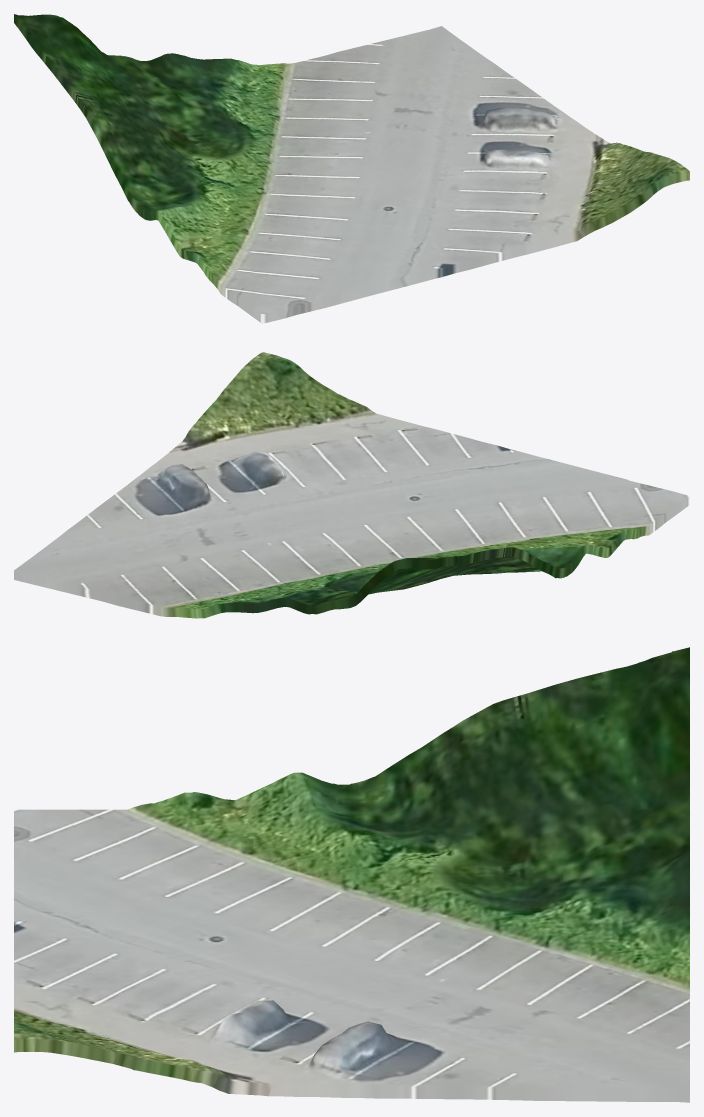
The model's file is z20-167568-405178-h0-yup-uvflip-v3-world.glb.
3 renders of one model, top to bottom at view 1: azimuth 30°, elevation 25°; view 2: azimuth 150°, elevation 25°; view 3: azimuth 270°, elevation 25°, orthographic. The views are drawn at different scales.
Size of the model in its own units: 30.16 by 8.68 by 30.32.
Materials: 1 (1 with a texture image).
